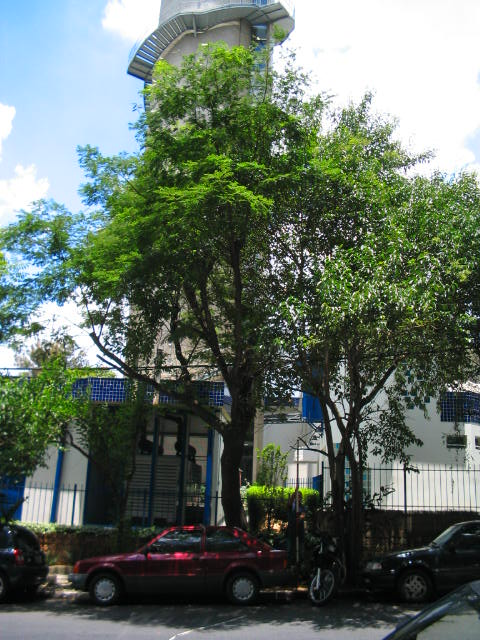crown: (41, 28, 432, 347), (268, 175, 477, 406)
stem: (197, 438, 263, 578), (323, 467, 378, 586)
stick: (289, 438, 306, 584)
tree: (37, 26, 432, 579), (266, 173, 478, 586)
